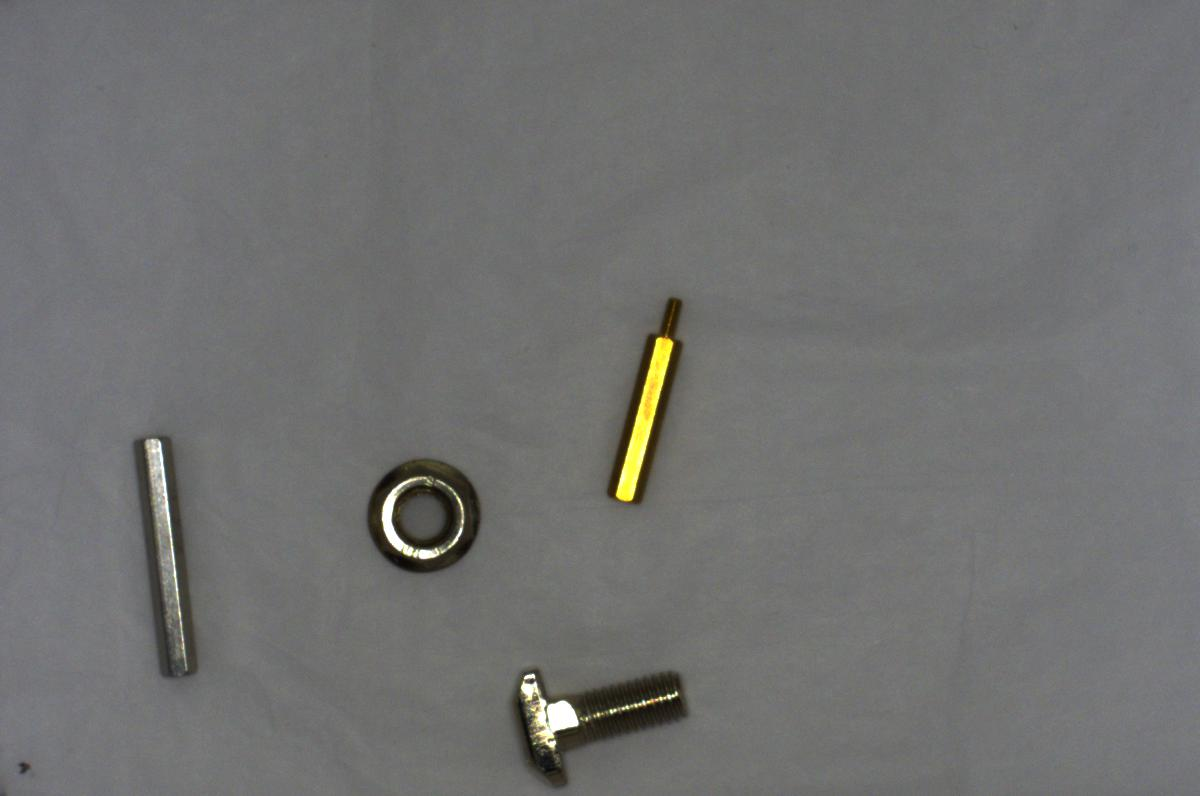Double hexagonal column: (118, 428, 211, 690)
Flange nut: (354, 449, 486, 574)
Hexagon pillar: (595, 281, 690, 508)
T-shaped screw: (500, 647, 699, 793)
